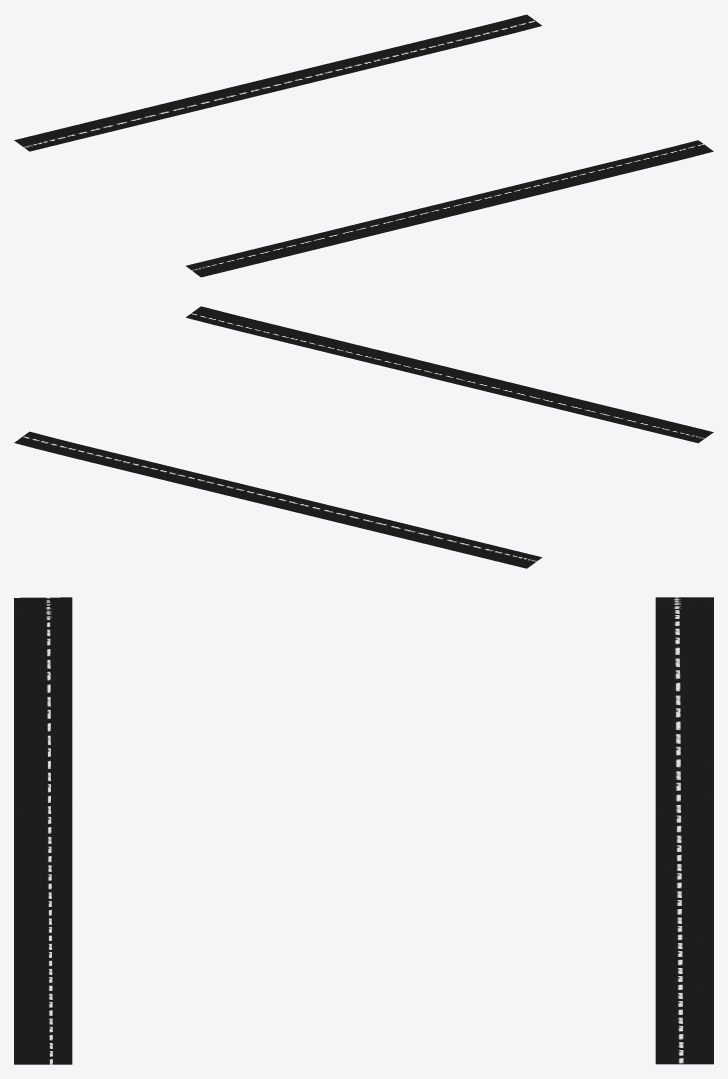
Rendered from road_2.obj.
3 renders of one model, top to bottom at view 1: azimuth 30°, elevation 25°; view 2: azimuth 150°, elevation 25°; view 3: azimuth 270°, elevation 25°, orthographic. The views are drawn at different scales.
Visible parts, largest first — view 1: Plane_Plane.006; view 2: Plane_Plane.006; view 3: Plane_Plane.006.
Part boxes in pixels (x1,y1,x2,y2): Plane_Plane.006: (14,14,713,277); Plane_Plane.006: (14,306,713,568); Plane_Plane.006: (14,597,713,1064).
Bounding box in the file's own units: 950 × 1.75 × 600.
1 material, 1 textured.
